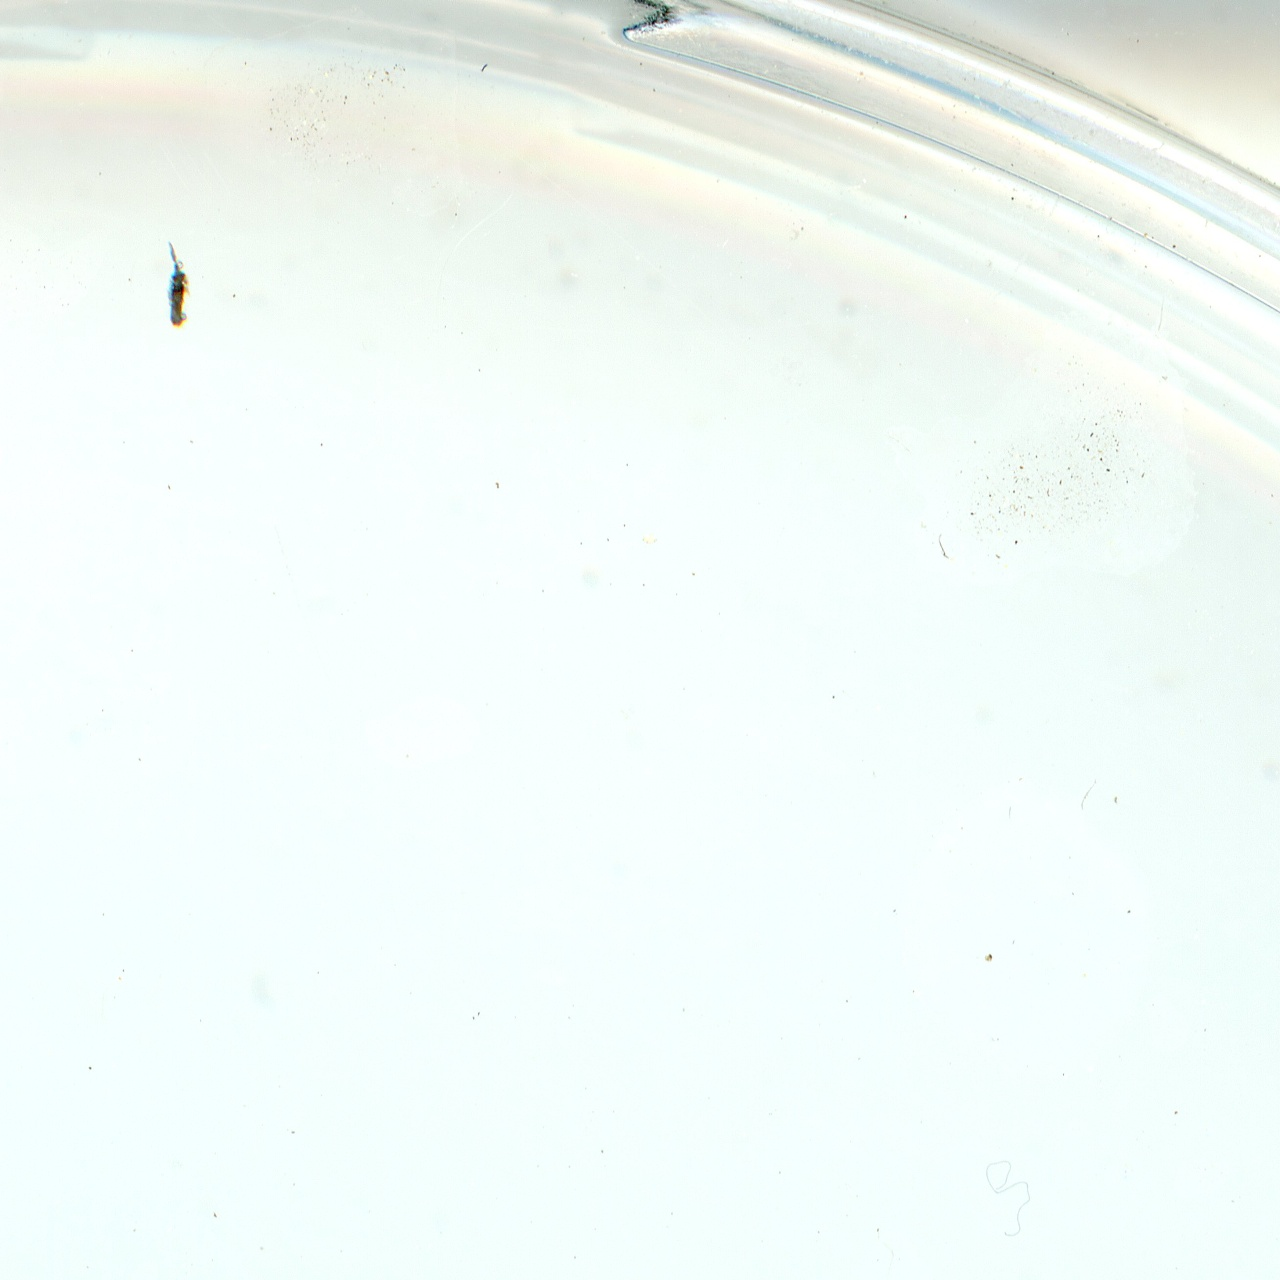arthropod: (164, 239, 194, 331)
